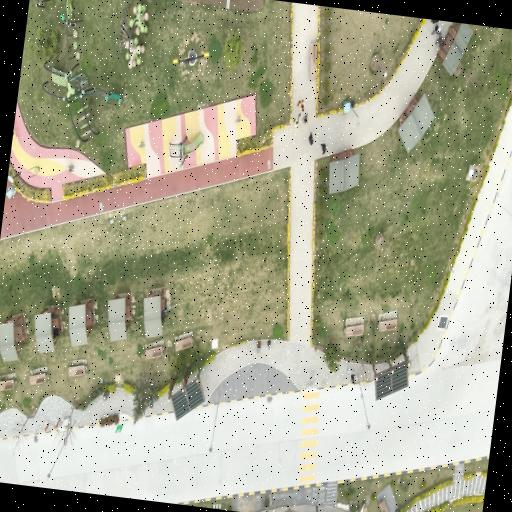person: (320, 142, 328, 156), (435, 35, 443, 46), (293, 114, 300, 126), (432, 24, 440, 34), (308, 131, 313, 145), (297, 99, 303, 110), (351, 374, 355, 385), (302, 113, 306, 123), (297, 100, 301, 107), (430, 20, 438, 23), (300, 103, 303, 111)
